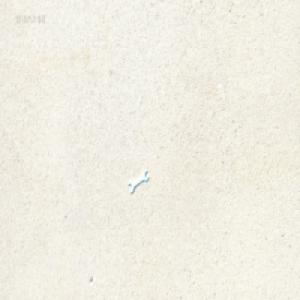Wrench: (128, 168, 149, 194)
